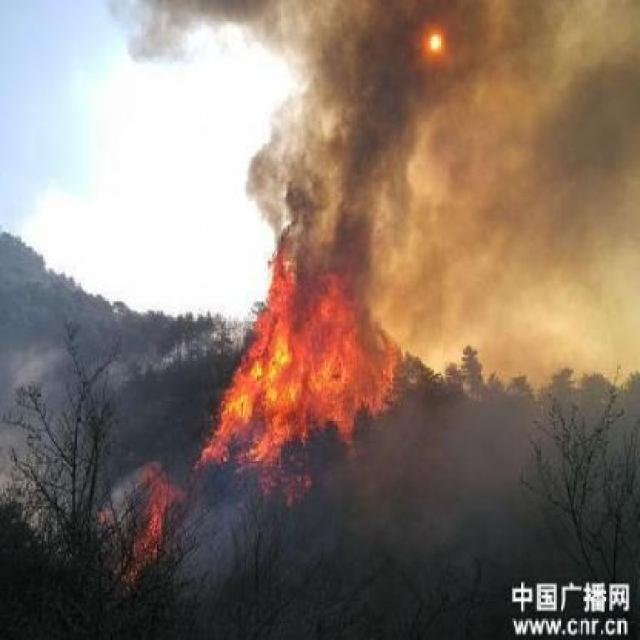Fire: (191, 238, 411, 497), (98, 472, 178, 590)
Smoke: (258, 3, 420, 246), (474, 4, 636, 236)
